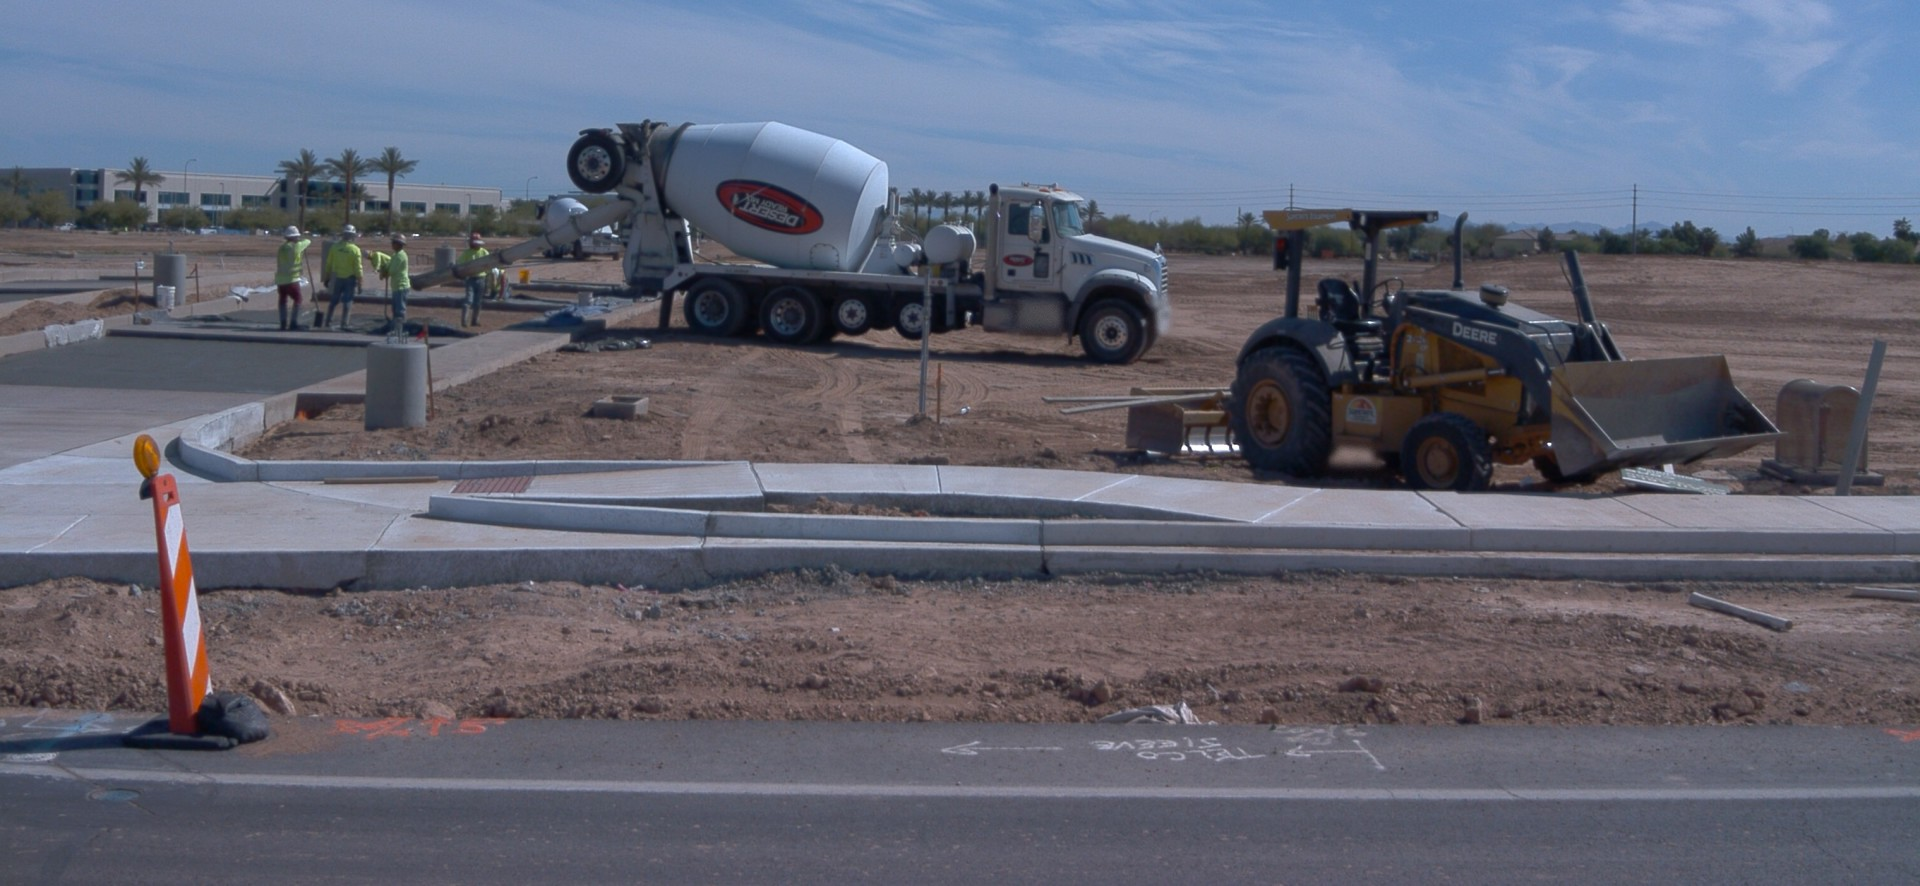TYPE_PEDESTRIAN: (322, 221, 364, 334), (453, 231, 497, 330), (274, 221, 312, 333), (377, 230, 413, 338), (481, 266, 513, 305), (363, 247, 393, 274)
TYPE_VEHICLE: (1035, 202, 1791, 494), (409, 116, 1178, 368), (535, 190, 622, 263)
